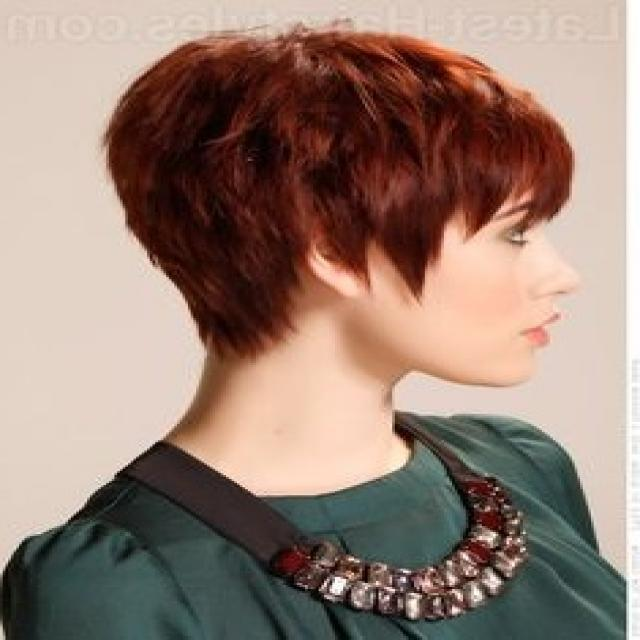Healthy: (171, 290, 421, 485)
